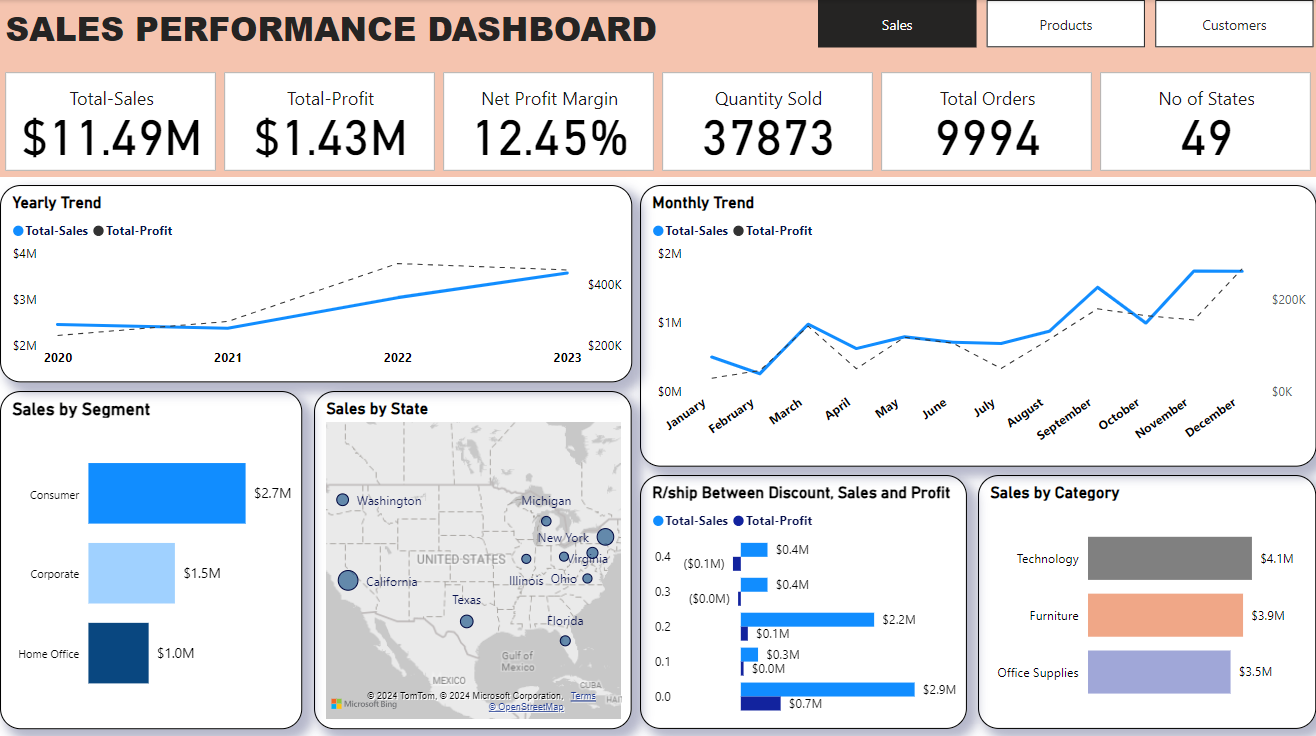

What the dashboard file says about the page in this screenshot:
{"tool":"powerbi","page":{"name":"Sales","canvas":[1280,720],"ordinal":1},"visuals":[{"type":"shape","box":[0,0,1280,172.2],"z":0},{"type":"lineChart","title":"Yearly Trend","fields":{"Y":["All measures.Total-Sales"],"Category":["Order_of_Sales.Order Date.Variation.Date Hierarchy.Year"],"Y2":["All measures.Total-Profit"]},"box":[0,179.9,614.7,191.6],"z":1000},{"type":"lineChart","title":"Monthly Trend","fields":{"Y":["All measures.Total-Sales"],"Category":["Order_of_Sales.Order Date.Variation.Date Hierarchy.Month"],"Y2":["All measures.Total-Profit"]},"box":[622.5,179.9,657.5,274.3],"z":2000},{"type":"map","title":"Sales by State","fields":{"Category":["Locations_in_usa.State"],"Size":["All measures.Total-Sales"]},"box":[305.4,380.3,309.3,328.8],"z":3000},{"type":"clusteredBarChart","title":"Sales by Segment","fields":{"Y":["All measures.Total-Sales"],"Category":["Order_of_Sales.Segment"]},"box":[0,380.3,293.7,328.8],"z":4000},{"type":"clusteredBarChart","title":"Sales by Category","fields":{"Category":["Product_of_Sales.Category"],"Y":["All measures.Total-Sales"]},"box":[951.2,462,328.8,247.1],"z":5000},{"type":"clusteredBarChart","title":"R/ship Between Discount, Sales and Profit","fields":{"Category":["Order_of_Sales.Discount"],"Y":["All measures.Total-Sales","All measures.Total-Profit"]},"box":[622.5,462,318.1,247.1],"z":6000},{"type":"cardVisual","fields":{"Data":["All measures.Total-Sales","All measures.Total-Profit","All measures.profit%","Sum(Order_of_Sales.Quantity)","All measures.Total Orders"]},"box":[0,65.2,1280,107],"z":7000},{"type":"textbox","box":[0,0,772.3,72.9],"z":8000},{"type":"pageNavigator","box":[795.6,0,484.4,46.7],"z":9000}]}

Visuals, with their boxes in screenshot pixels (x1, y1, x2, y2), scaled from the page's 1280x720 canvas onto the 1316x736 screenshot:
shape: {"left": 0, "top": 0, "right": 1315, "bottom": 176}
"Yearly Trend" lineChart: {"left": 0, "top": 184, "right": 632, "bottom": 380}
"Monthly Trend" lineChart: {"left": 640, "top": 184, "right": 1315, "bottom": 464}
"Sales by State" map: {"left": 314, "top": 389, "right": 632, "bottom": 725}
"Sales by Segment" clusteredBarChart: {"left": 0, "top": 389, "right": 302, "bottom": 725}
"Sales by Category" clusteredBarChart: {"left": 978, "top": 472, "right": 1315, "bottom": 725}
"R/ship Between Discount, Sales and Profit" clusteredBarChart: {"left": 640, "top": 472, "right": 967, "bottom": 725}
cardVisual - All measures.Total-Sales x All measures.Total-Profit: {"left": 0, "top": 67, "right": 1315, "bottom": 176}
textbox: {"left": 0, "top": 0, "right": 794, "bottom": 75}
pageNavigator: {"left": 818, "top": 0, "right": 1315, "bottom": 48}
